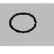no answer: (6, 10, 37, 34)
